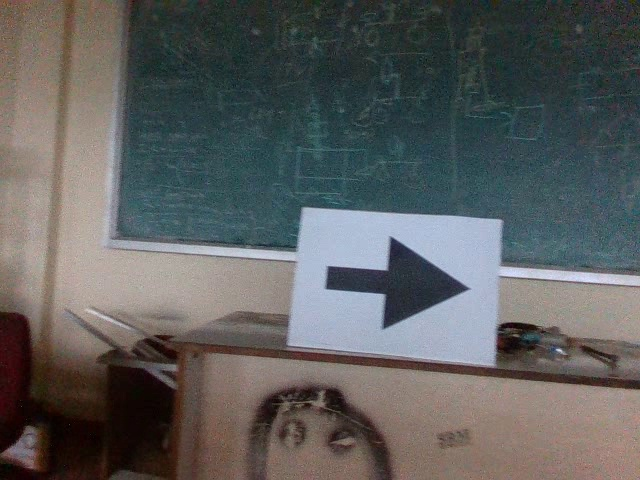Right: (319, 228, 476, 337)
